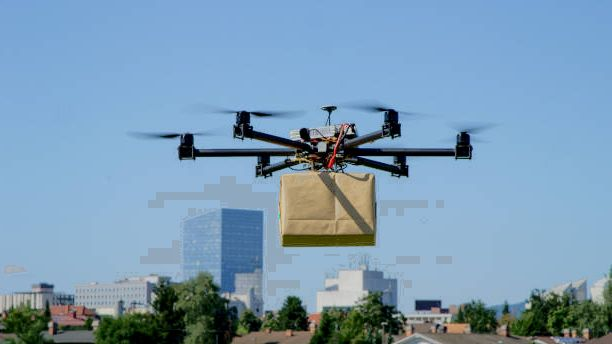Drone: (124, 99, 504, 180)
